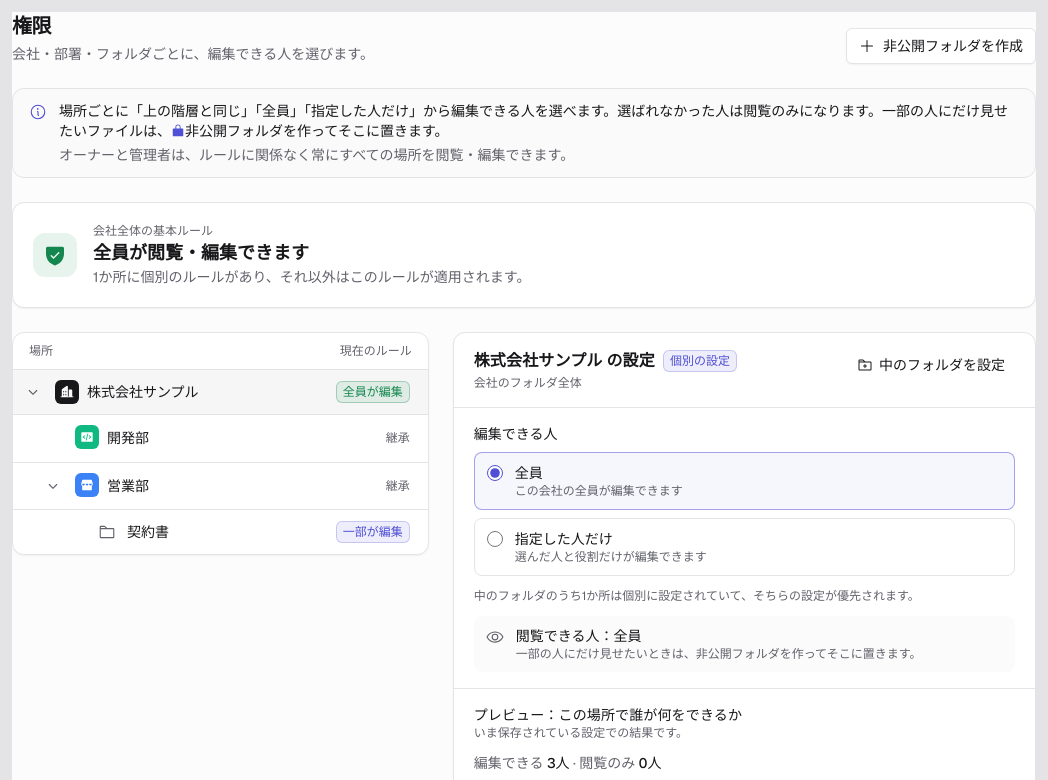
Test: 権限 › explains rules made with the earlier editor that the choice cannot express
Click the button "契約書 一部が編集" at (148, 532), box [89,516,416,548]
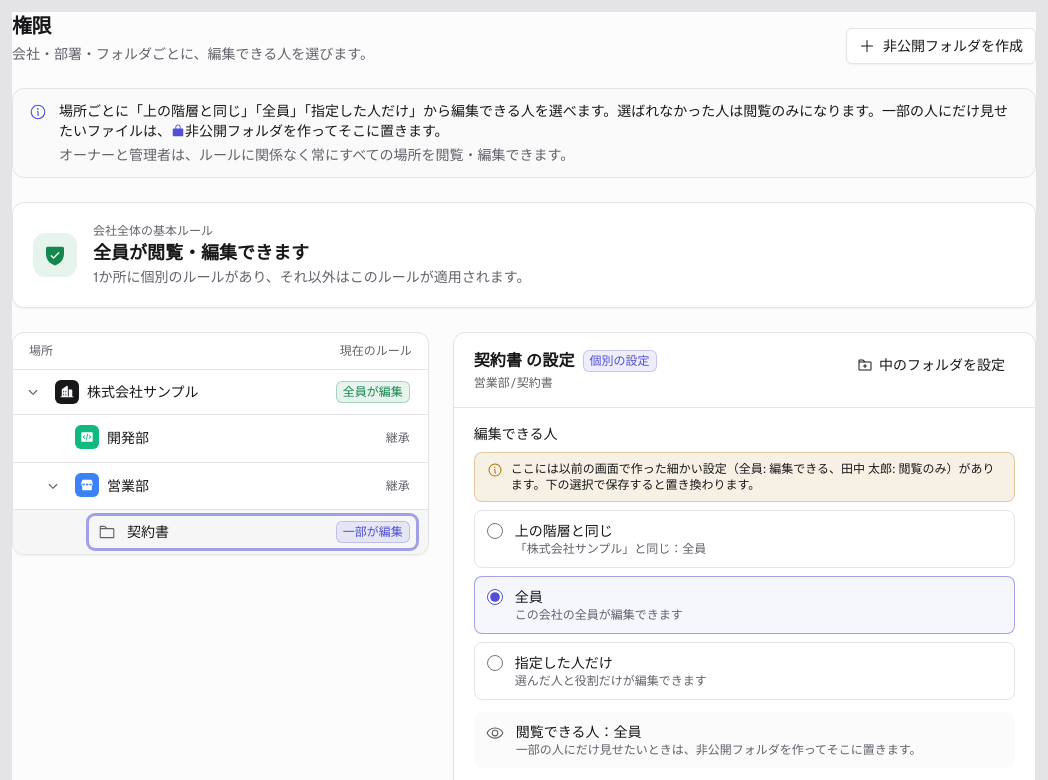
Expected: the text "以前の画面で作った細かい設定（全員: 編集できる、田中 太郎: 閲覧のみ）" is shown, [511,461,1002,493]
Expected: the radio button labelled "全員 この会社の全員が編集できます" is checked, [487,589,503,605]
